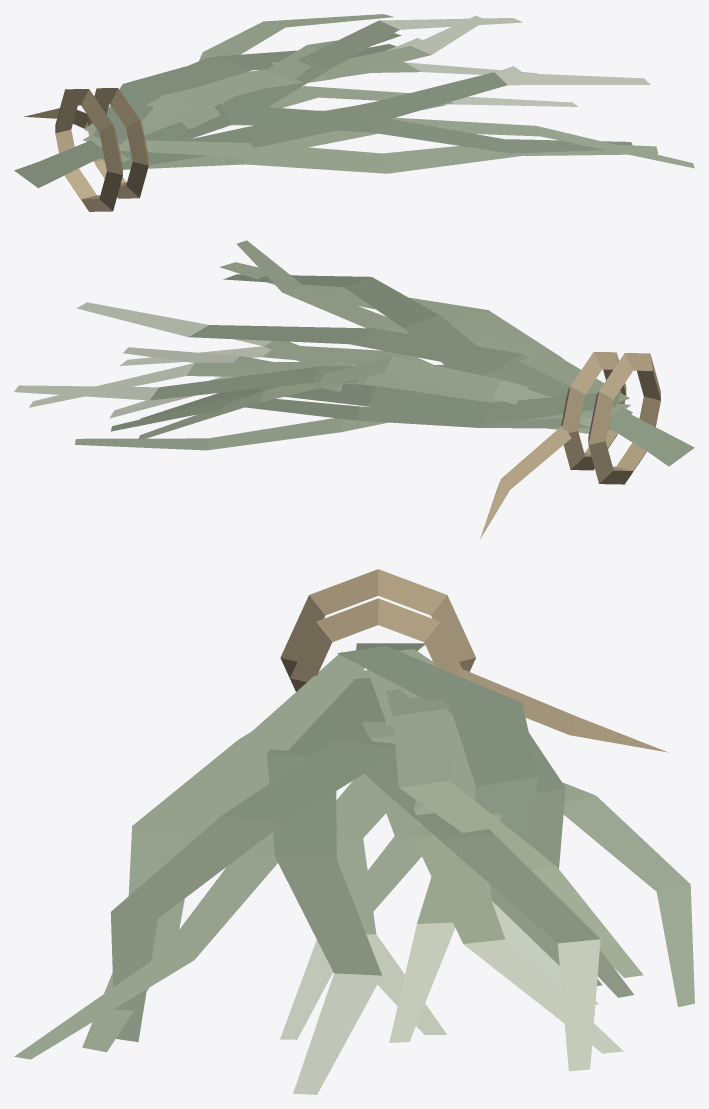
The model's file is ingredient_t1.fbx.
The picture shows the model from 3 angles, top to bottom: view 1: azimuth 30°, elevation 25°; view 2: azimuth 150°, elevation 25°; view 3: azimuth 270°, elevation 25°; orthographic projection. The views are drawn at different scales.
Parts seen in each view (by area): view 1: ingredient_t1; view 2: ingredient_t1; view 3: ingredient_t1.
Boxes of the visible parts, bbox=[...] form: ingredient_t1: bbox=[14, 14, 694, 211]; ingredient_t1: bbox=[14, 240, 694, 539]; ingredient_t1: bbox=[14, 569, 694, 1094].
Bounding box in the file's own units: 10.17 × 2.02 × 7.03.
